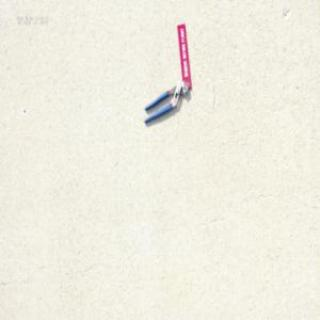LuggageTagtrack_idkeyframe: (176, 22, 191, 88)
Pliertrack_idkeyframe: (142, 79, 187, 123)
